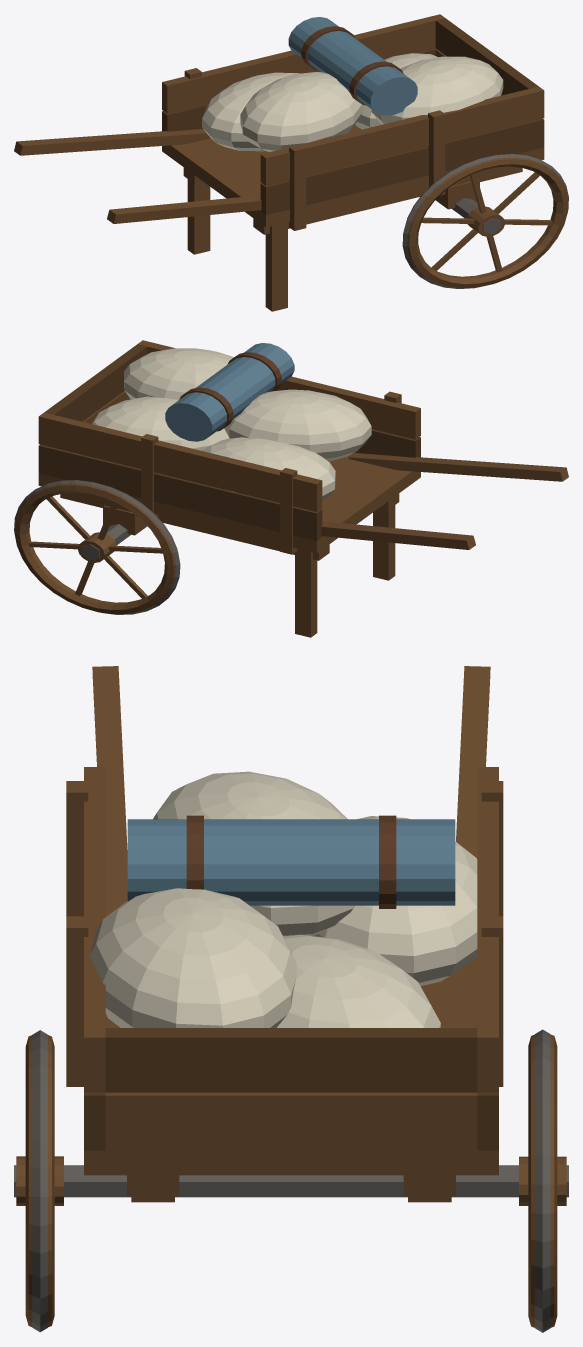
The model's file is handcart-a.glb.
3 renders of one model, top to bottom at view 1: azimuth 30°, elevation 25°; view 2: azimuth 150°, elevation 25°; view 3: azimuth 270°, elevation 25°, orthographic. The views are drawn at different scales.
Parts seen in each view (by area): view 1: Body_Wood, Body_Canvas, Body_WoodDark, Body_Paint, Body_Iron, Body_Leather; view 2: Body_Wood, Body_Canvas, Body_WoodDark, Body_Paint, Body_Iron, Body_Leather; view 3: Body_Wood, Body_Canvas, Body_WoodDark, Body_Paint, Body_Iron, Body_Leather.
Boxes of the visible parts, x1=… form: Body_Wood: x1=14, y1=14, x2=568, y2=311; Body_Canvas: x1=202, y1=53, x2=503, y2=151; Body_WoodDark: x1=162, y1=18, x2=544, y2=215; Body_Paint: x1=288, y1=17, x2=417, y2=115; Body_Iron: x1=402, y1=154, x2=568, y2=288; Body_Leather: x1=301, y1=26, x2=403, y2=105; Body_Wood: x1=14, y1=340, x2=568, y2=637; Body_Canvas: x1=91, y1=348, x2=371, y2=500; Body_WoodDark: x1=38, y1=344, x2=420, y2=541; Body_Paint: x1=165, y1=343, x2=294, y2=441; Body_Iron: x1=14, y1=480, x2=180, y2=614; Body_Leather: x1=179, y1=352, x2=281, y2=431; Body_Wood: x1=16, y1=666, x2=566, y2=1327; Body_Canvas: x1=89, y1=771, x2=477, y2=1027; Body_WoodDark: x1=84, y1=1028, x2=498, y2=1150; Body_Paint: x1=127, y1=819, x2=455, y2=905; Body_Iron: x1=14, y1=1029, x2=568, y2=1332; Body_Leather: x1=186, y1=815, x2=396, y2=908.
Bounding box in the file's own units: 2.2 × 1 × 1.2.
